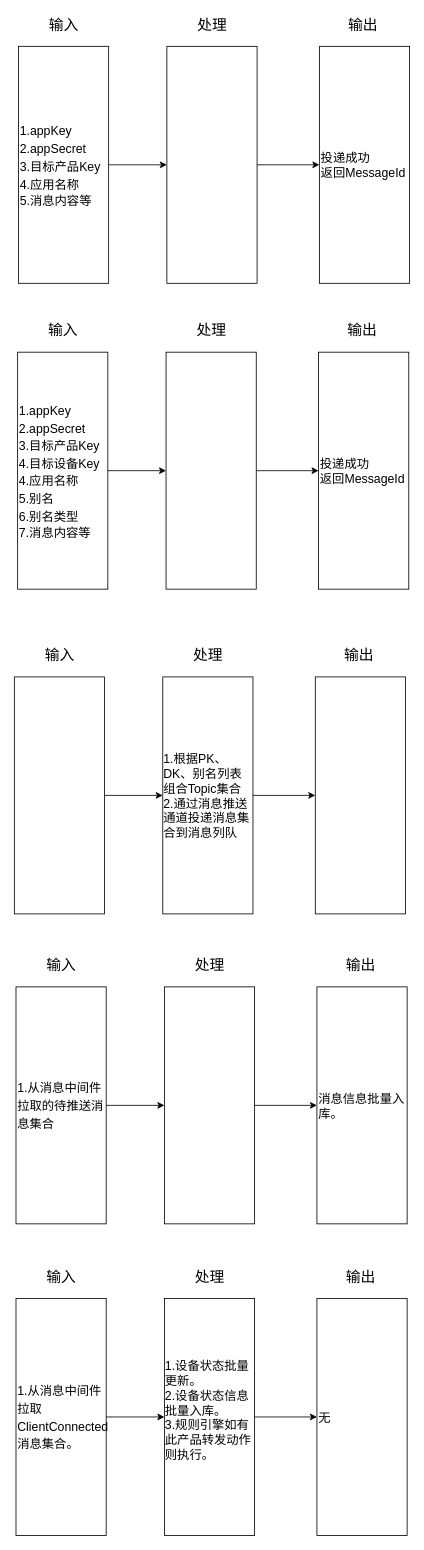
This 424x1550 diagram has some shape labels left out. The centre of each missing label's shape, as x and y in pixels:
"1.appKey 2.appSecret 3.目标产品Key 4.目标设备Key 4.应用名称 5.别名列表 6.别名类型 7.消息内容等" goes at point 59,795.
"1.根据PK、DK组合Topic 2.通过消息推送通道投递消息到消息列队" goes at point 210,470.
"1.根据PK、应用名、组合Topic 2.通过消息推送通道投递消息到消息列队" goes at point 211,164.
"1.解析消费集合中，待发送信息中产品Key、设备Key等元数据。 2.根据此产品下设备消息类型进行校验及业务逻辑处理。" goes at point 209,1105.
"投递集合成功 返回MessageId" goes at point 359,795.
